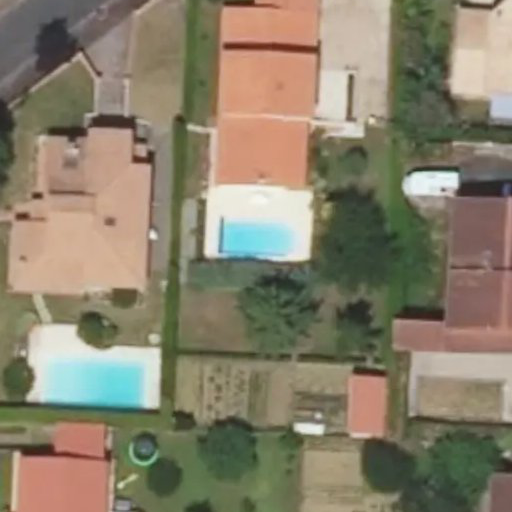pool: (25, 336, 149, 414), (215, 205, 308, 265)
